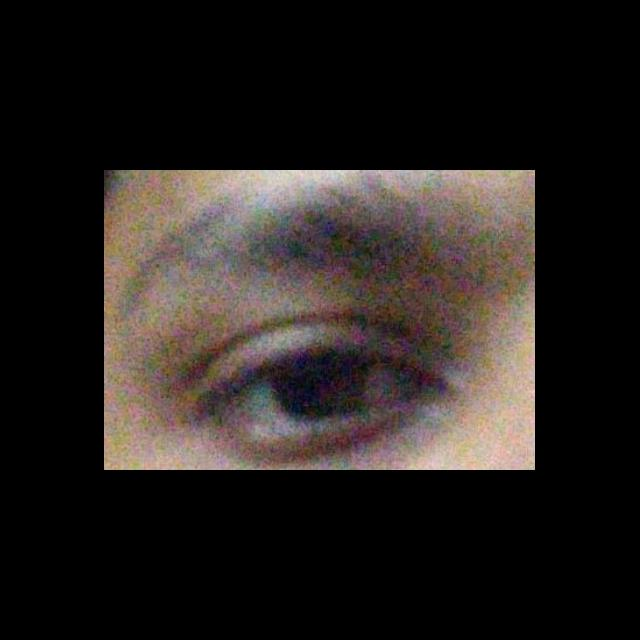eye: (222, 356, 414, 429)
iris: (271, 357, 371, 422)
